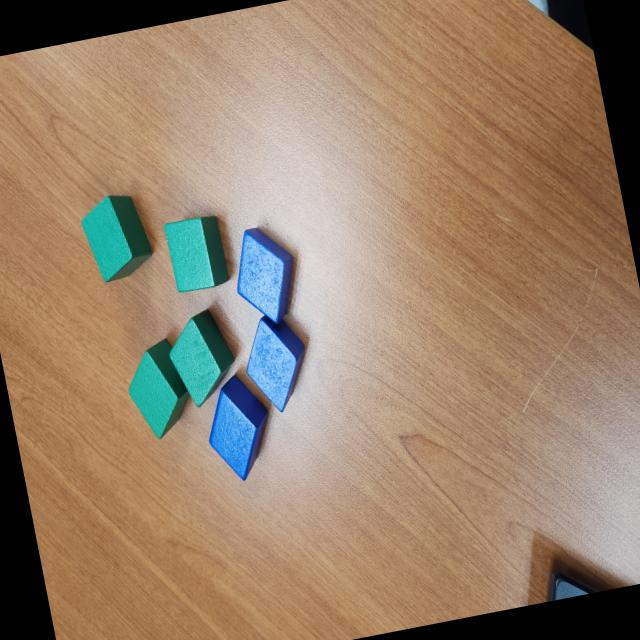blue: (198, 369, 281, 486), (225, 220, 306, 332), (236, 308, 316, 416)
green: (160, 305, 246, 412), (118, 336, 198, 444), (75, 188, 158, 284), (160, 213, 232, 294)
